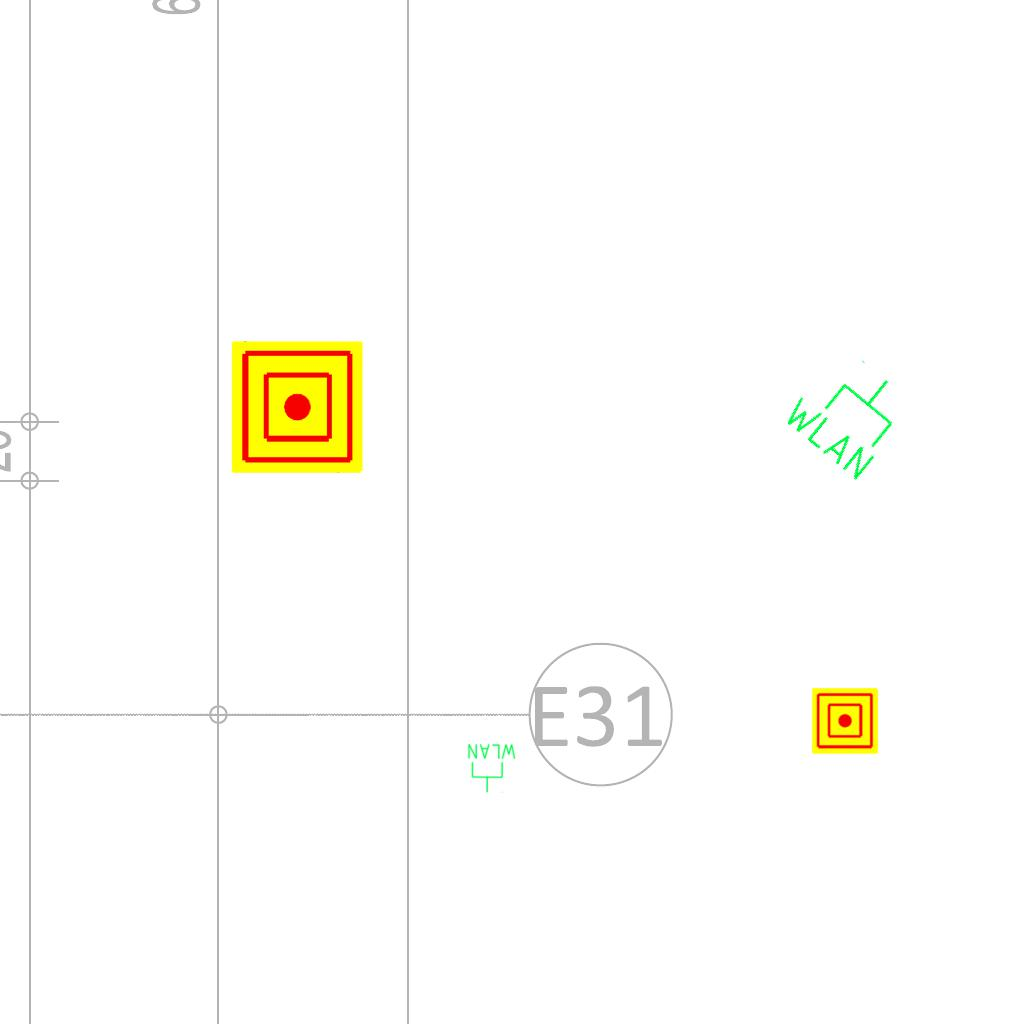NAM-Nichtautomatischer_Melder: (231, 341, 363, 473), (812, 688, 878, 754)
WLAN: (775, 339, 923, 486), (466, 742, 518, 794)
